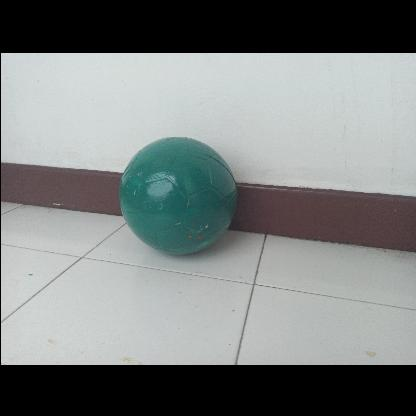green_ball: (118, 133, 238, 253)
